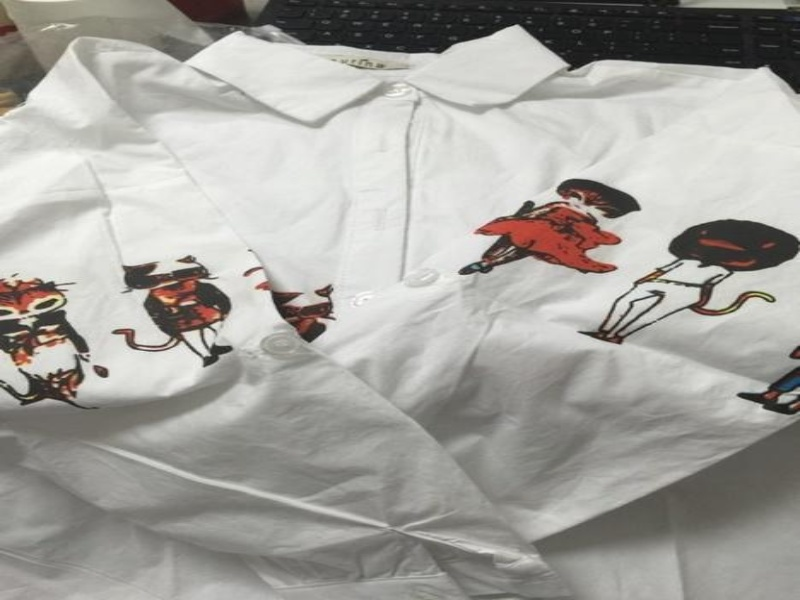long_sleeved_shirt: (0, 22, 797, 599)
